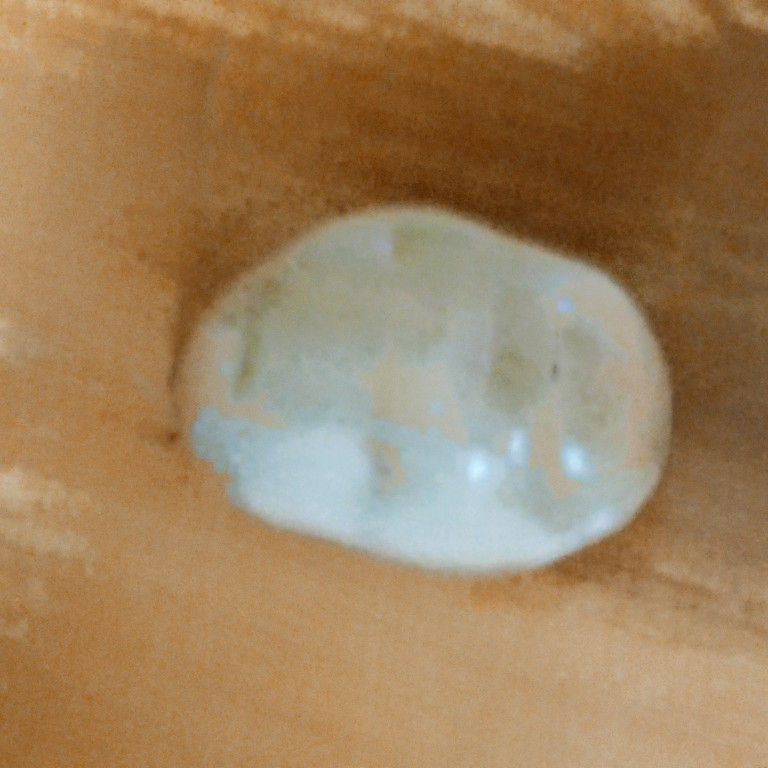fruit_potato: (161, 194, 683, 574)
